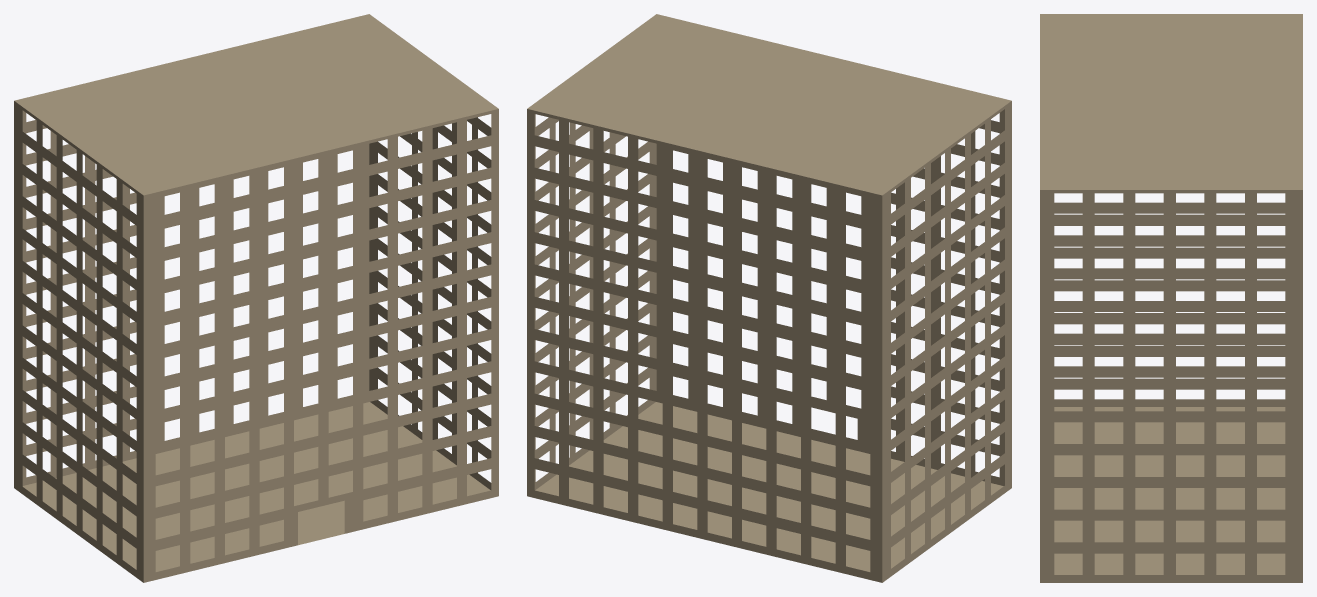
Rendered from wall.dae.
3 views of the same model, side by side, from view 1: azimuth 30°, elevation 25°; view 2: azimuth 150°, elevation 25°; view 3: azimuth 270°, elevation 25° (orthographic).
Bounding box in the file's own units: 38 × 24 × 39.6.
